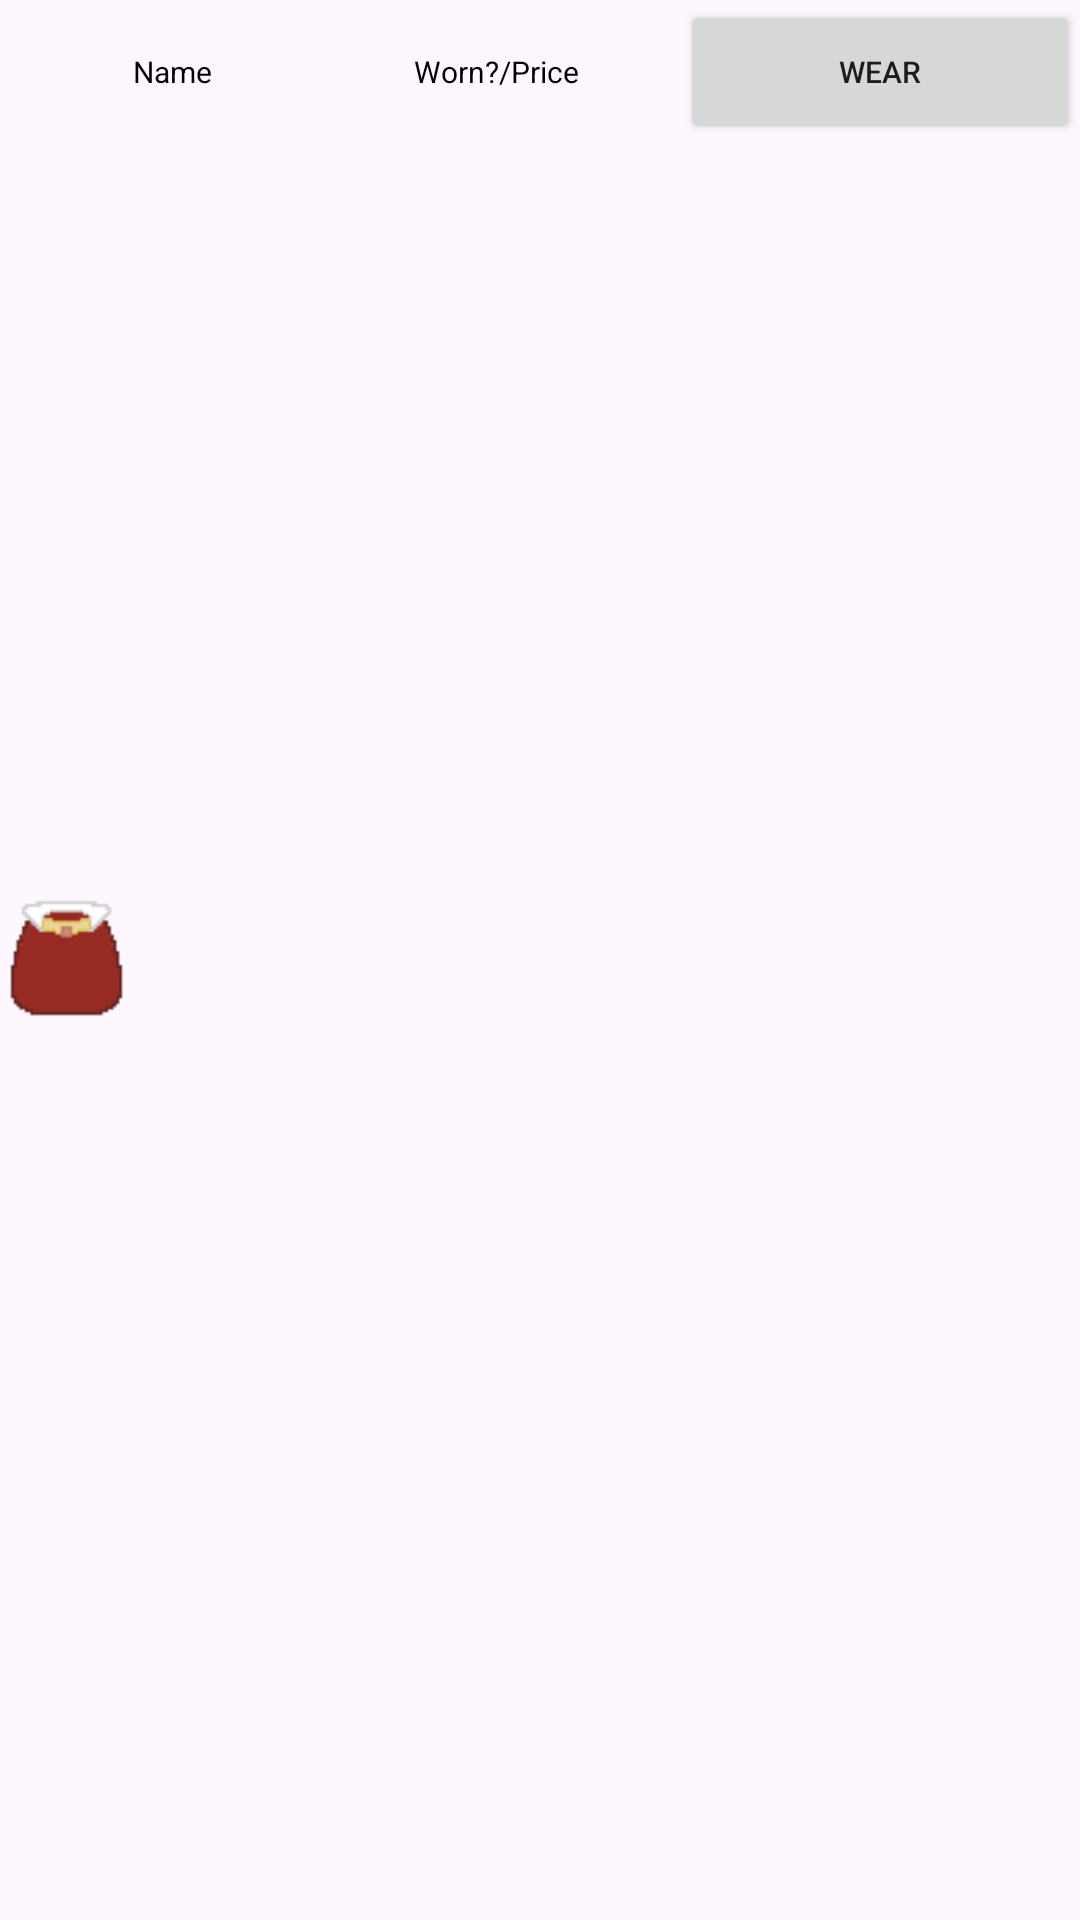

Icons on this 1080 x 1920 Android screen, each with the point to tap as point (x, y):
cloak: point (66, 958)
